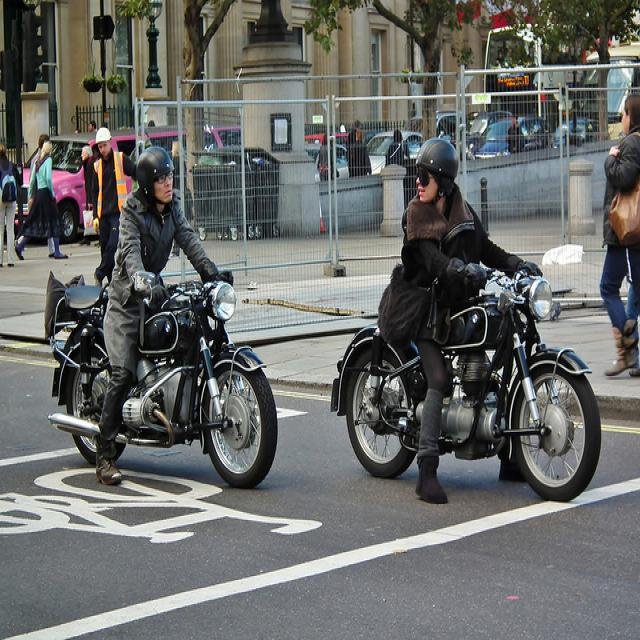motor: (324, 252, 611, 508), (51, 279, 282, 486)
